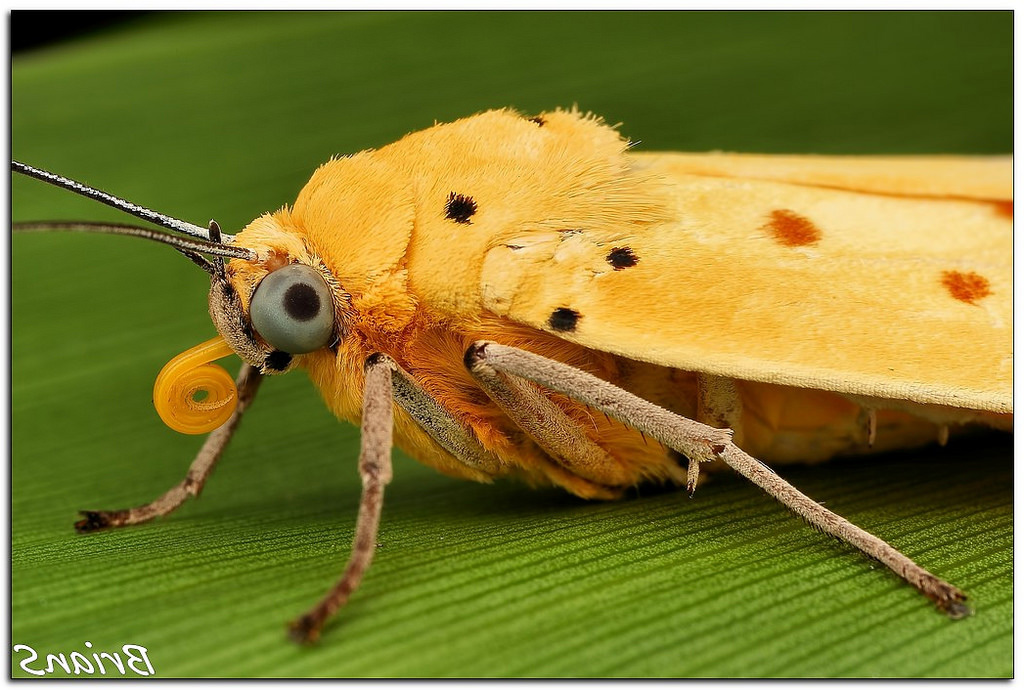Agape chloropyga: (10, 104, 1012, 647)
moth: (8, 102, 1010, 645)
